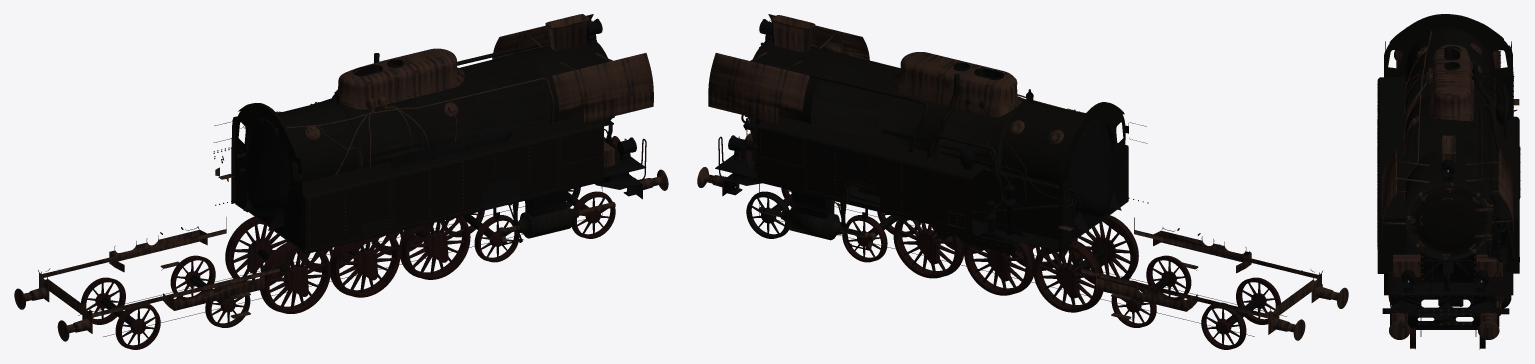
File: steam_locomotive.glb
The picture shows the model from 3 angles, left to right: view 1: azimuth 30°, elevation 25°; view 2: azimuth 150°, elevation 25°; view 3: azimuth 270°, elevation 25°; orthographic projection. The views are drawn at different scales.
Parts seen in each view (by area): view 1: LocomotiveBody, DrivingWheel07, DrivingWheel08, DrivingWheel09, DrivingWheel11, DrivingWheel00, DrivingWheel03, DrivingWheel02, DrivingWheel06, DrivingWheel05, DrivingWheel01; view 2: LocomotiveBody, DrivingWheel11, DrivingWheel10, DrivingWheel12, DrivingWheel07, DrivingWheel06, DrivingWheel13, DrivingWheel04, DrivingWheel00, DrivingWheel01, DrivingWheel05; view 3: LocomotiveBody, DrivingWheel02.
Part boxes in pixels (bbox=[...]): LocomotiveBody: bbox=[14, 14, 668, 341]; DrivingWheel07: bbox=[260, 242, 330, 313]; DrivingWheel08: bbox=[329, 233, 400, 297]; DrivingWheel09: bbox=[399, 216, 470, 279]; DrivingWheel11: bbox=[225, 216, 295, 285]; DrivingWheel00: bbox=[115, 304, 160, 349]; DrivingWheel03: bbox=[474, 215, 519, 262]; DrivingWheel02: bbox=[571, 191, 615, 238]; DrivingWheel06: bbox=[81, 277, 125, 324]; DrivingWheel05: bbox=[170, 255, 215, 300]; DrivingWheel01: bbox=[205, 282, 250, 327]; LocomotiveBody: bbox=[697, 14, 1348, 340]; DrivingWheel11: bbox=[1033, 240, 1104, 312]; DrivingWheel10: bbox=[893, 217, 964, 278]; DrivingWheel12: bbox=[964, 242, 1034, 295]; DrivingWheel07: bbox=[1068, 215, 1138, 284]; DrivingWheel06: bbox=[1201, 302, 1246, 349]; DrivingWheel13: bbox=[746, 191, 789, 238]; DrivingWheel04: bbox=[842, 215, 887, 262]; DrivingWheel00: bbox=[1236, 277, 1280, 324]; DrivingWheel01: bbox=[1146, 255, 1191, 301]; DrivingWheel05: bbox=[1111, 280, 1156, 327]; LocomotiveBody: bbox=[1377, 14, 1520, 339]; DrivingWheel02: bbox=[1410, 327, 1415, 349].
Bounding box in the file's own units: 10.59 × 3.51 × 2.26.
10 materials, 9 textured.
